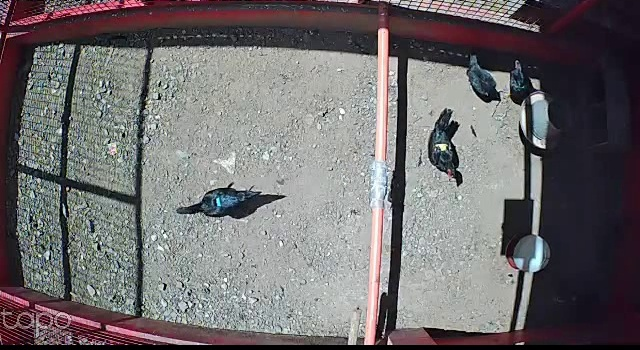Chicken: (175, 178, 261, 220), (425, 106, 465, 187), (464, 50, 503, 101), (507, 58, 548, 102)
Saddle_Color_Blue: (216, 195, 221, 207)
Saddle_Color_Yellow: (435, 141, 452, 157)
